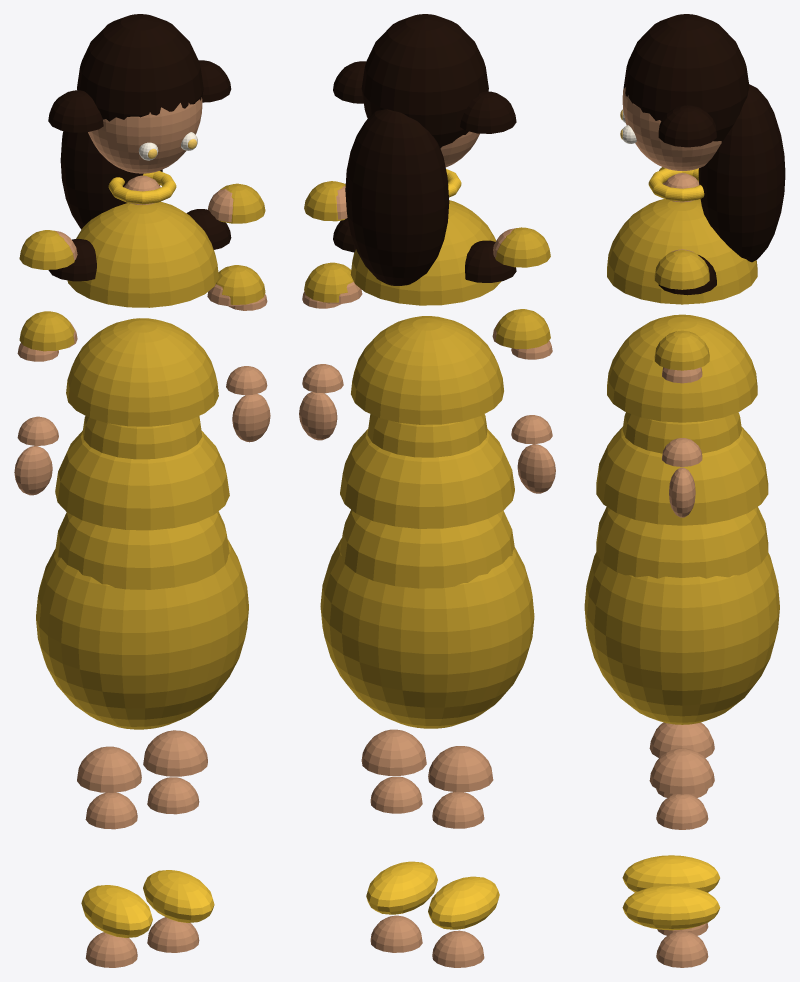
Rendered from arania_body.obj.
3 renders of one model, left to right at view 1: azimuth 30°, elevation 25°; view 2: azimuth 150°, elevation 25°; view 3: azimuth 270°, elevation 25°, orthographic.
Size of the model in its own units: 0.536 by 1.88 by 0.37.
